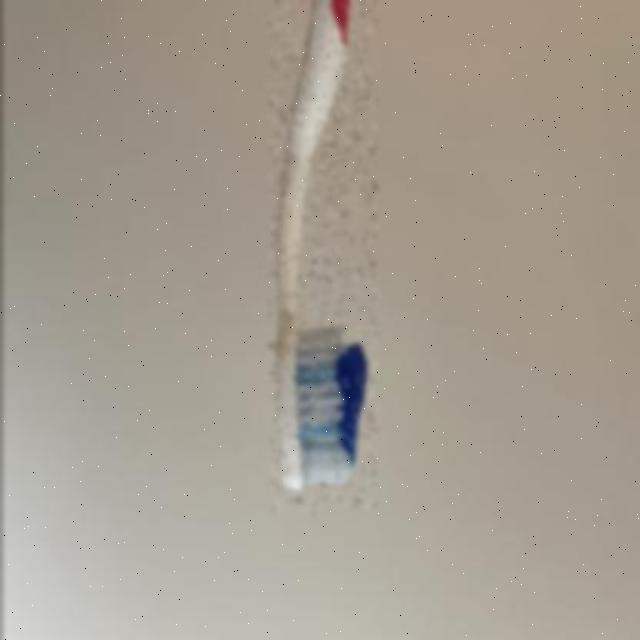toothbrush: (268, 1, 376, 514)
